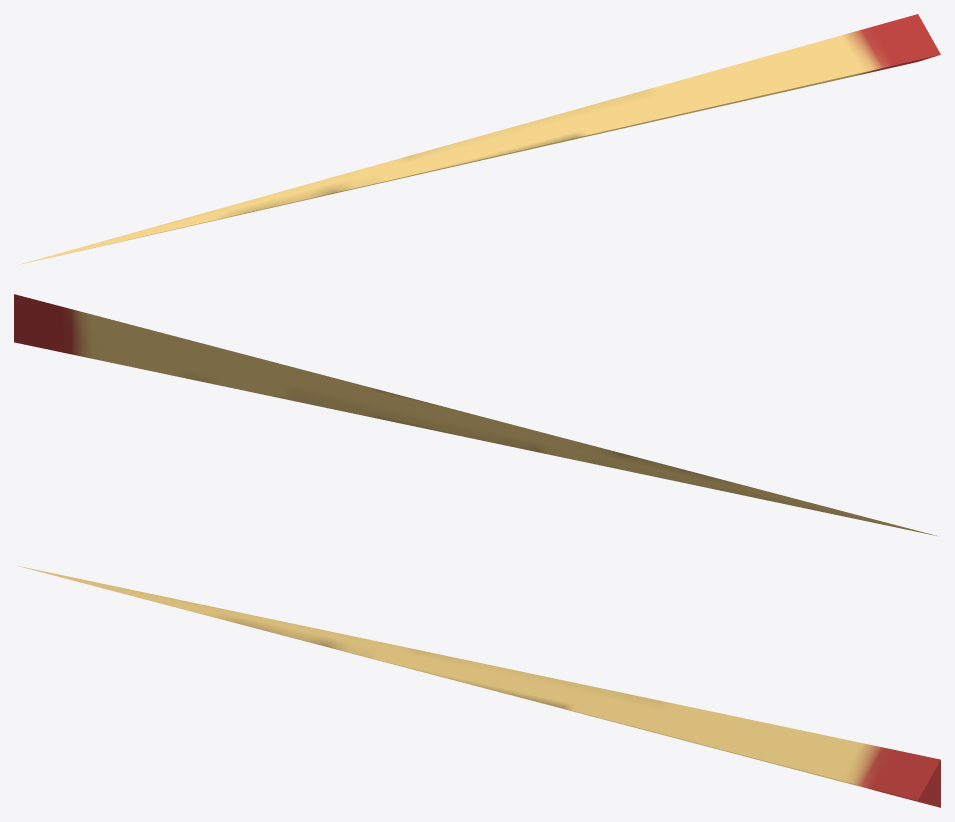
The model's file is match_01.glb.
3 renders of one model, top to bottom at view 1: azimuth 30°, elevation 25°; view 2: azimuth 150°, elevation 25°; view 3: azimuth 330°, elevation 25°, orthographic.
Parts seen in each view (by area): view 1: match_01; view 2: match_01; view 3: match_01.
Part boxes in pixels (x1,y1,x2,y2): match_01: (17,14,940,265); match_01: (14,294,937,536); match_01: (17,565,940,807).
Bounding box in the file's own units: 0.1588 × 0.00797 × 0.0069.
1 material, 1 textured.
